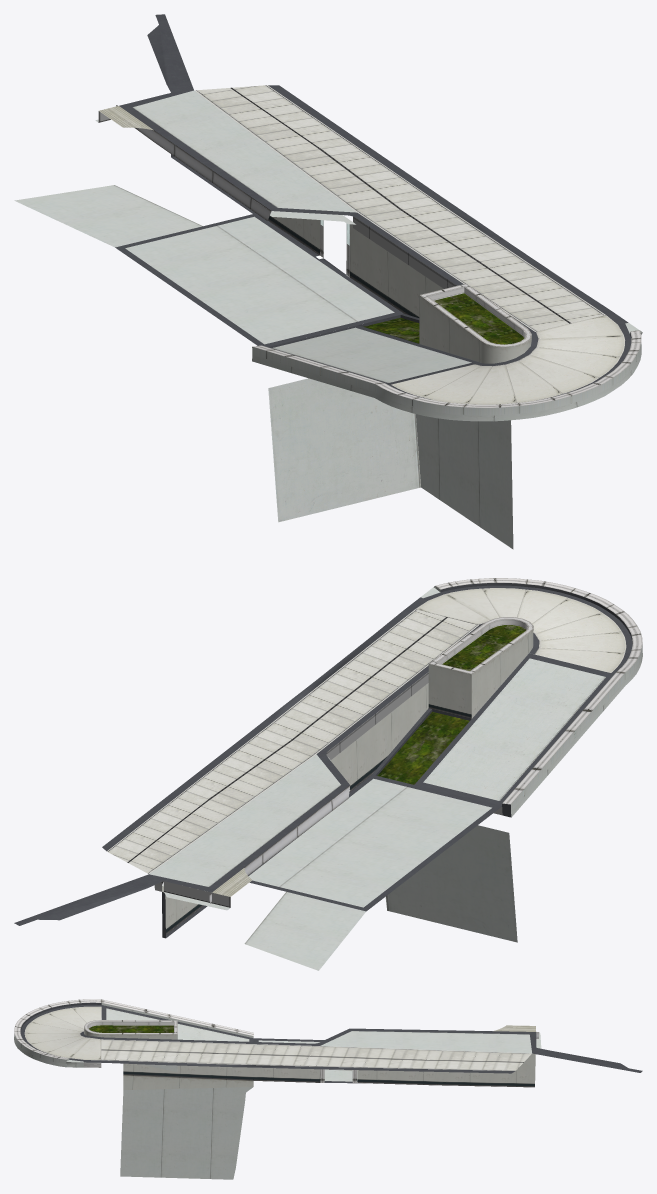
The model's file is STA20_41.FBX.
3 views of the same model, one above another, from view 1: azimuth 30°, elevation 25°; view 2: azimuth 150°, elevation 25°; view 3: azimuth 270°, elevation 25° (orthographic). The views are drawn at different scales.
Parts seen in each view (by area): view 1: STA20_41; view 2: STA20_41; view 3: STA20_41.
Boxes of the visible parts, x1,y1,x2,y2 form: STA20_41: (14,14,642,549); STA20_41: (14,578,642,970); STA20_41: (14,999,642,1179).
Size of the model in its own units: 19.12 by 17.23 by 67.56.
